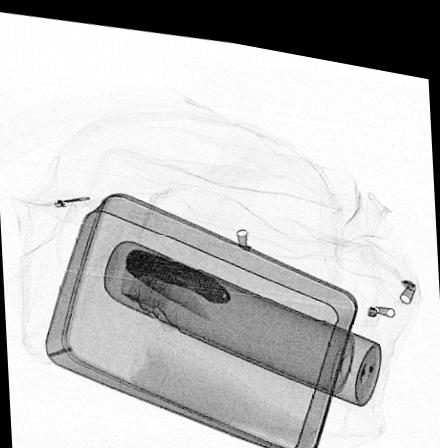Knife: (122, 240, 232, 313)
